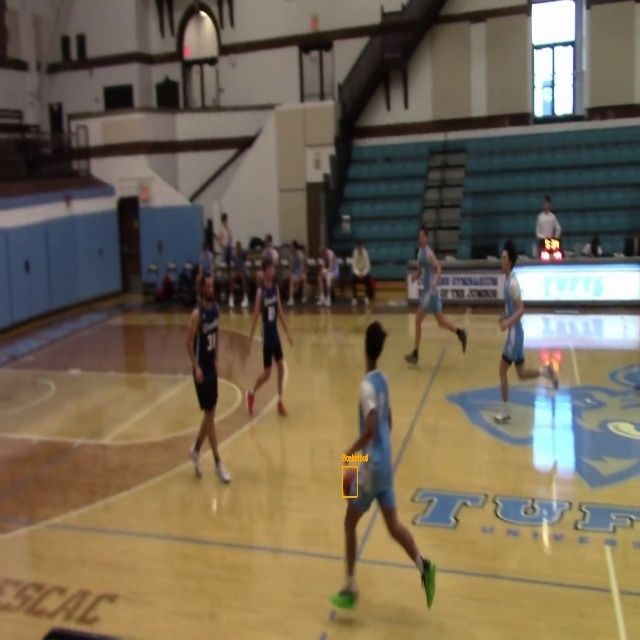Basketball: (342, 466, 357, 497)
